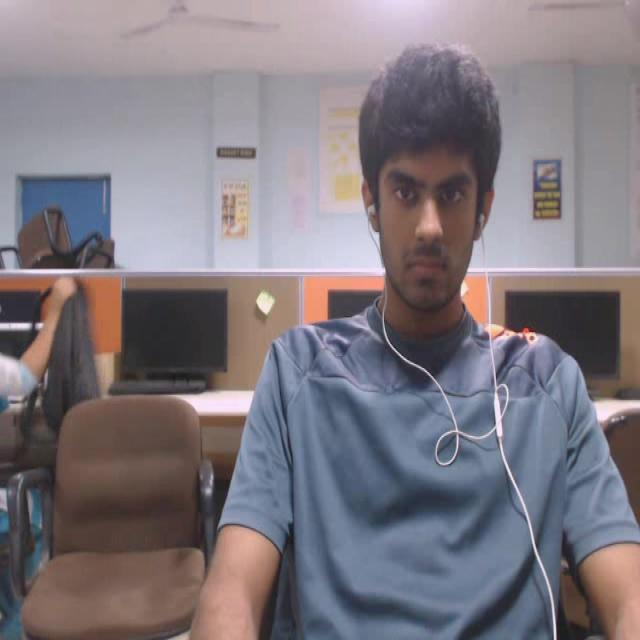Engaged: (342, 41, 516, 334)
